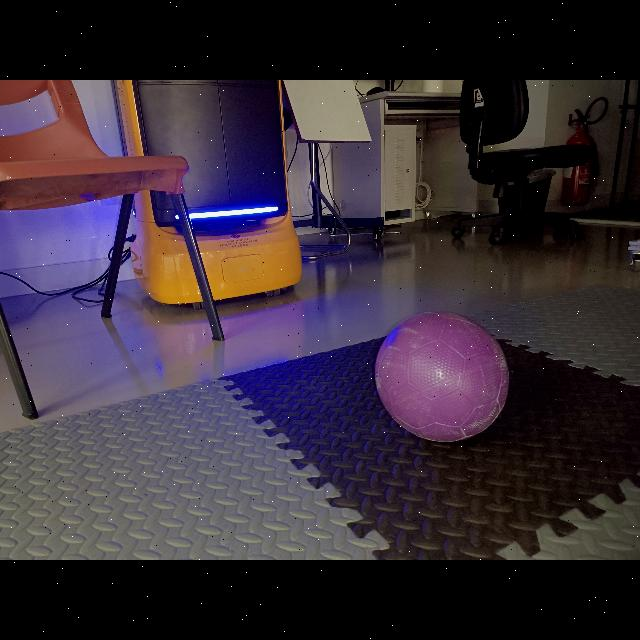P: (374, 310, 510, 444)
